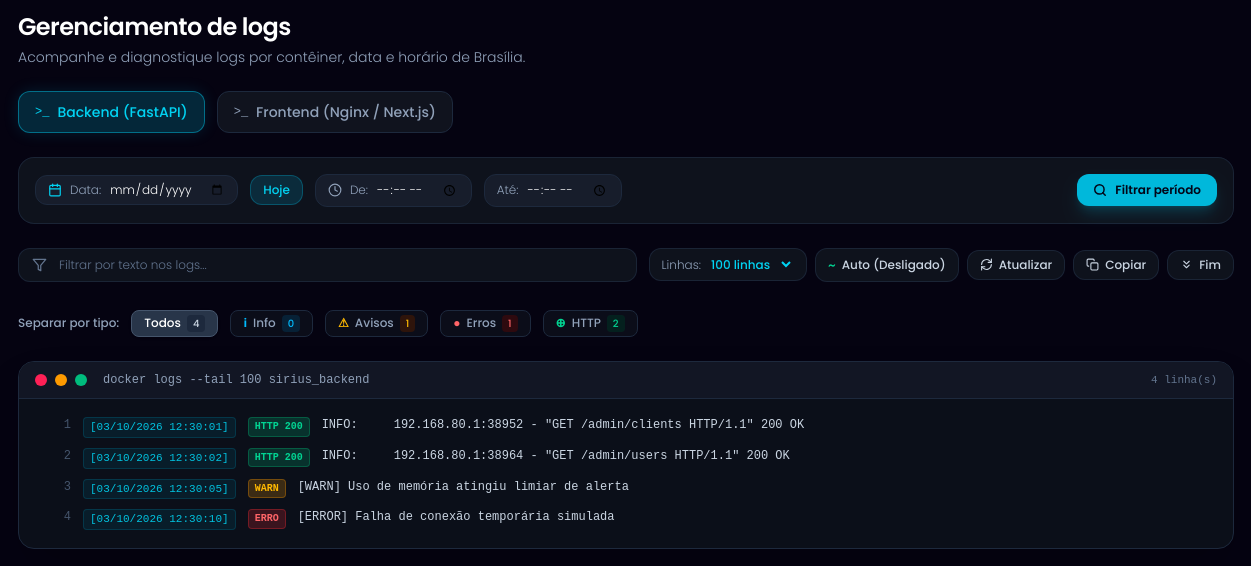
Test case: GerenciamentoLogs Component › permite filtrar logs por texto digitado no input de busca
Expected: the text "docker logs --tail 100 sirius_backend" is shown, left=103, top=372, right=370, bottom=388
Type "memória" into the field with placeholder "Filtrar por texto nos logs...".
click(327, 265); type("memória")  # box left=18, top=248, right=637, bottom=282
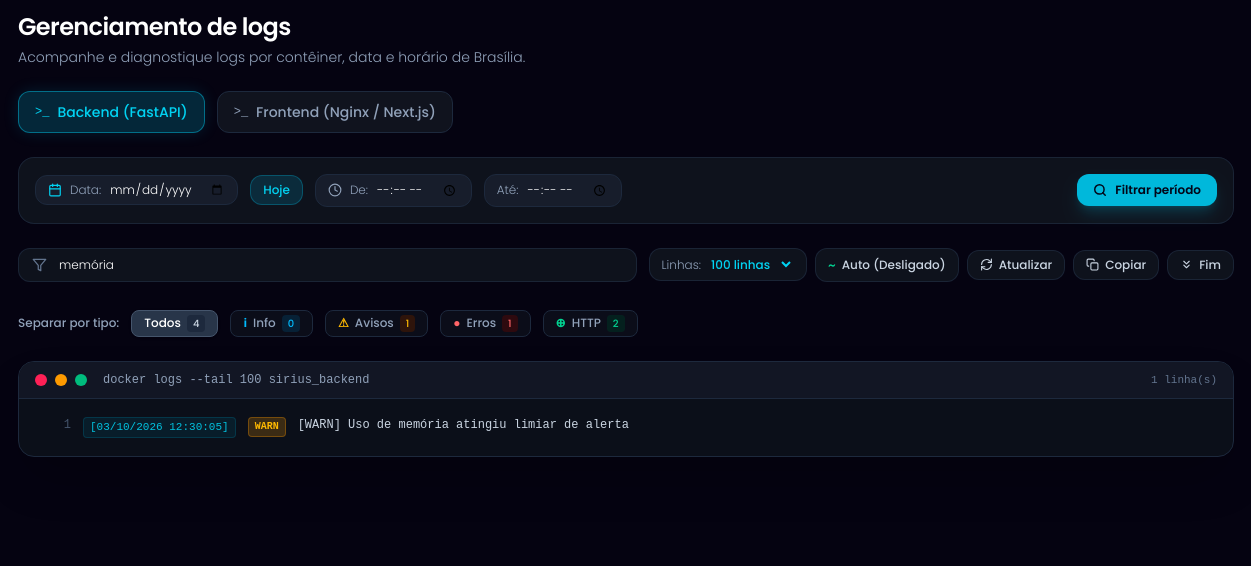
Expected: the text "[WARN] Uso de memória atingiu limiar de alerta" is shown, left=298, top=417, right=629, bottom=433
Expected: the text "GET /admin/clients" is gone
